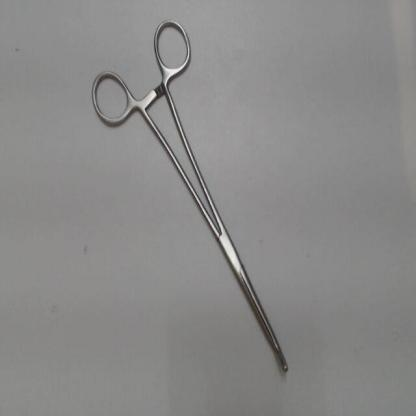Lahey Forceps: (82, 10, 298, 382)
